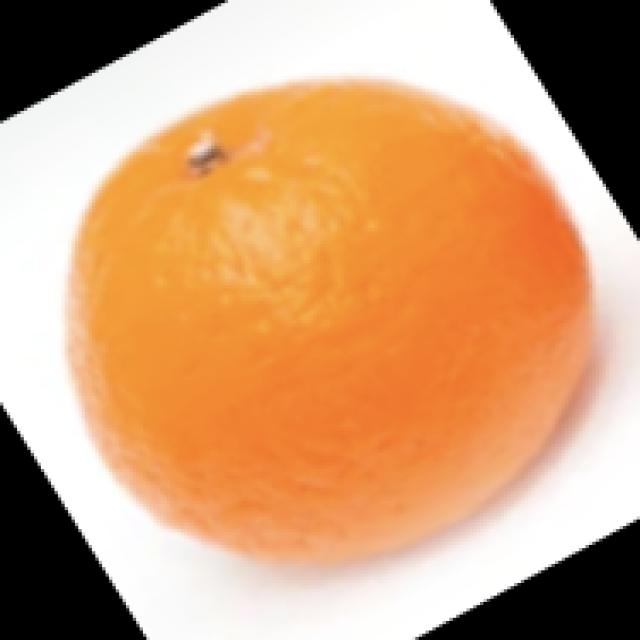matang: (69, 86, 591, 555)
